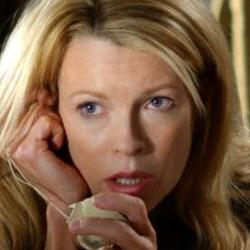face: (1, 1, 242, 227)
